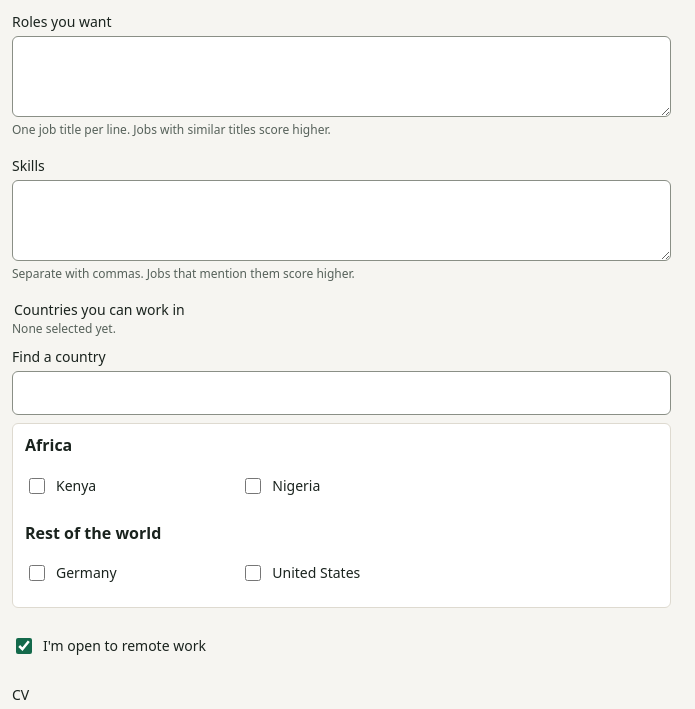
Test: ProfilePage › narrows the country list as you type, across Africa and the rest of the world
The width and height of the screenshot is (695, 709).
(page scrolled)
Type "ger" into the search field labelled "Find a country" at (341, 393), box [12, 371, 671, 415]
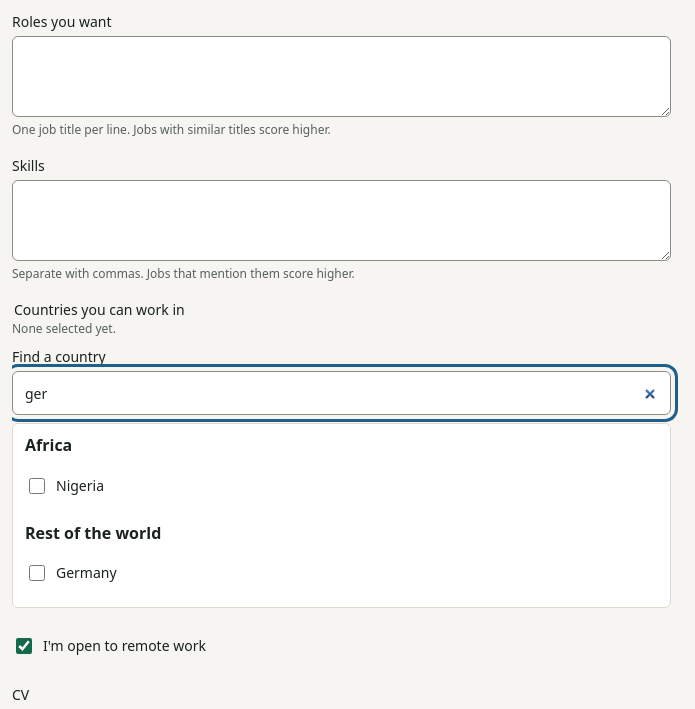
Expected: the checkbox labelled "Nigeria" is shown, [29, 478, 45, 494]
Expected: the label labelled "Kenya" is gone
